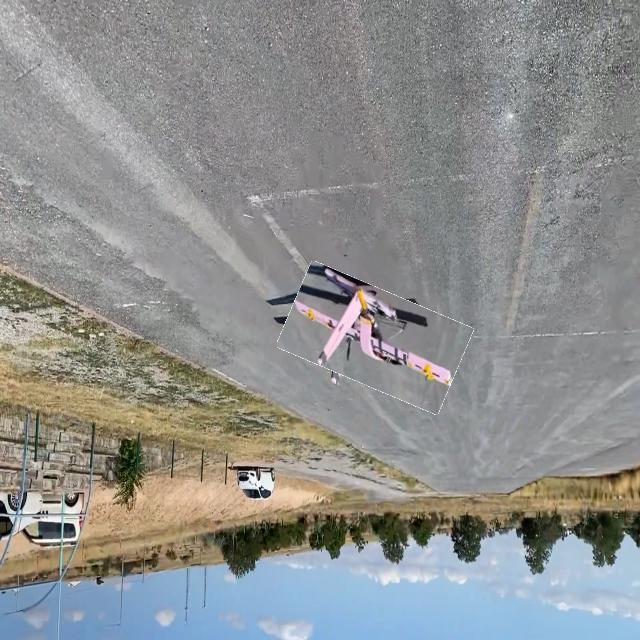UAV: (242, 286, 474, 366)
